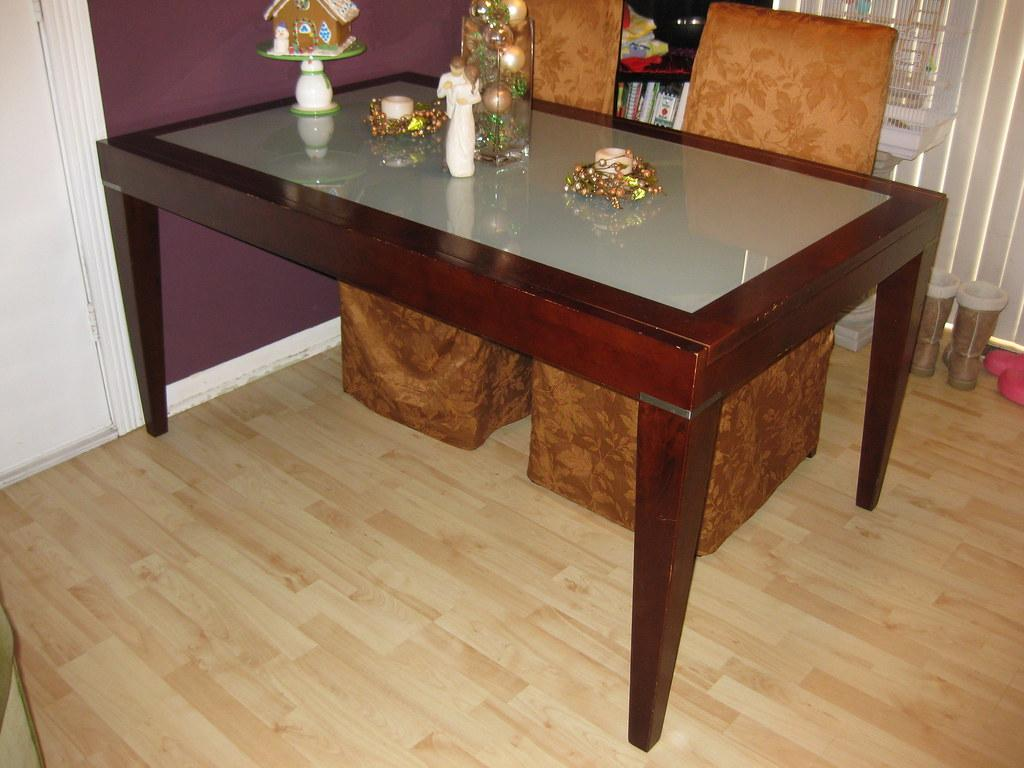table: (94, 70, 950, 751)
